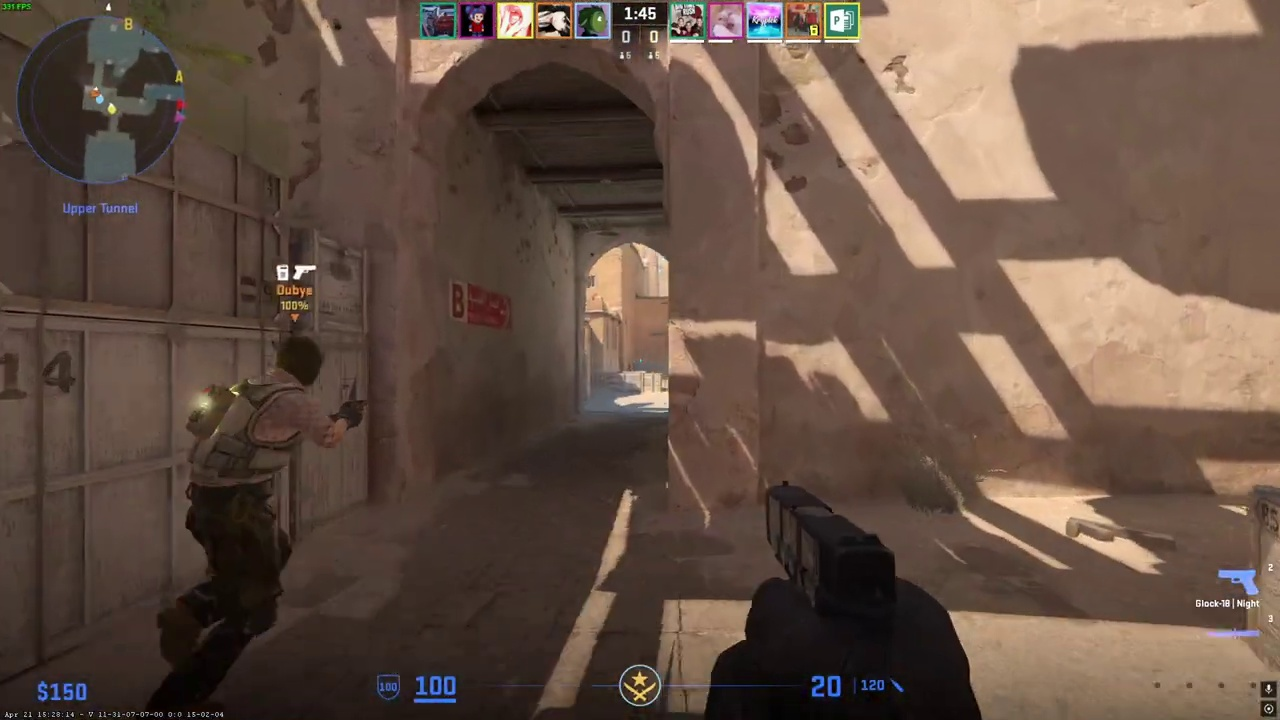Terrorist: (161, 335, 324, 720)
